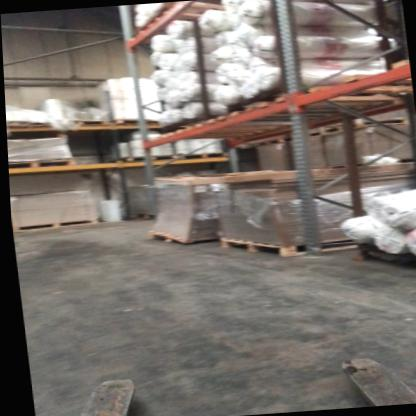vertical_damage: (302, 234, 327, 261)
